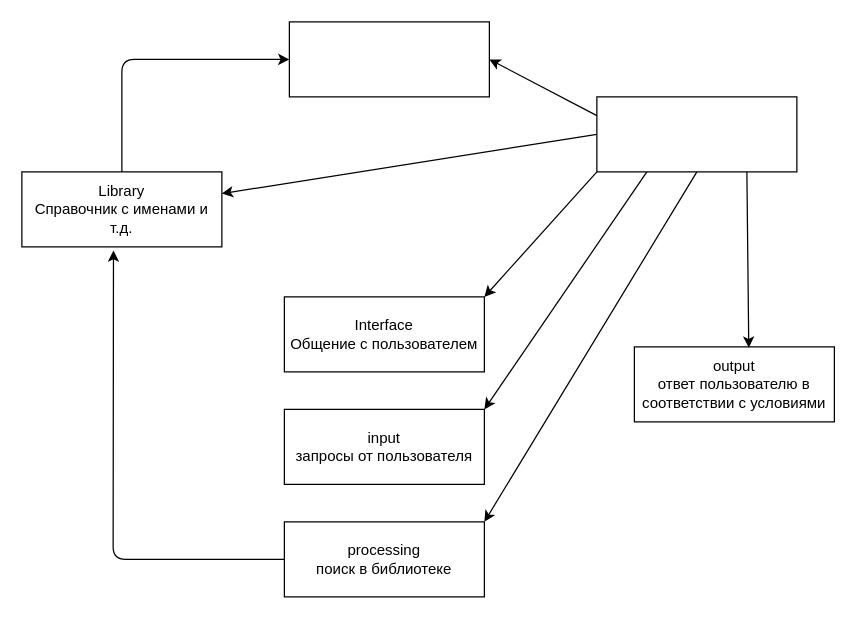
Image size: 856x619. Some labels were removed from this diagram. Each missing label, with the centre of its shape:
control связь модулей: the point at 696,134
sorted_library справочник после фильтрации: the point at 388,59
